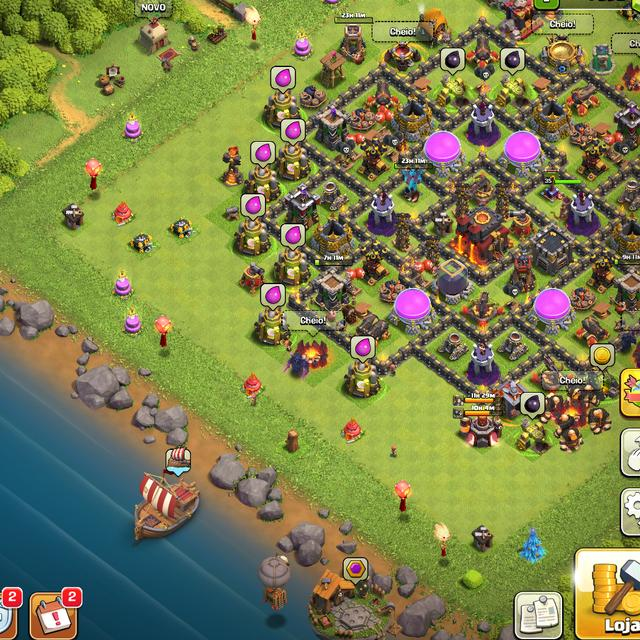Elixir: (241, 194, 266, 222), (352, 335, 376, 364), (270, 66, 295, 93), (280, 119, 305, 146), (252, 142, 276, 168), (282, 224, 306, 250), (261, 284, 285, 310)
ElixirNegro: (501, 47, 525, 75), (441, 47, 465, 74), (521, 392, 544, 419)
coin: (590, 343, 615, 372)
